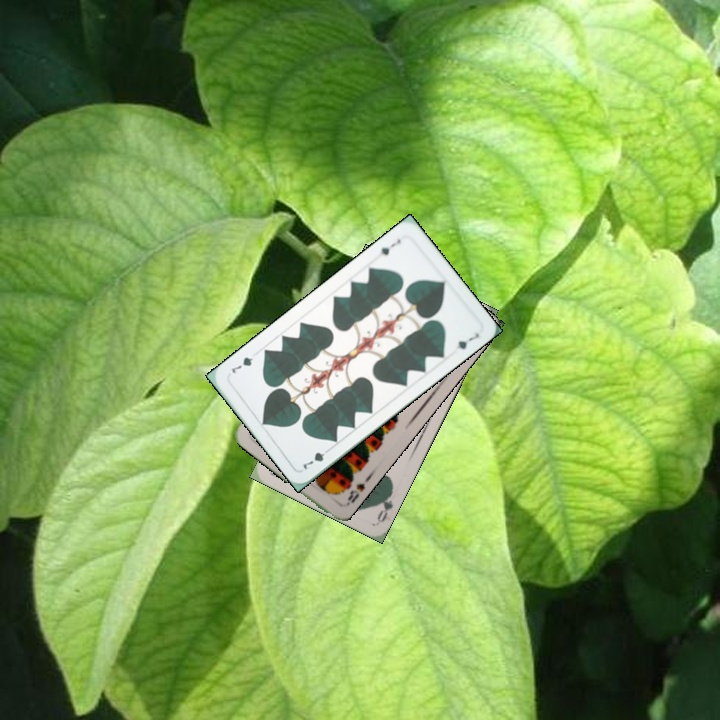G7: (299, 443, 334, 472), (372, 234, 403, 259)
GO: (373, 485, 396, 525)
S8: (341, 479, 368, 509)
